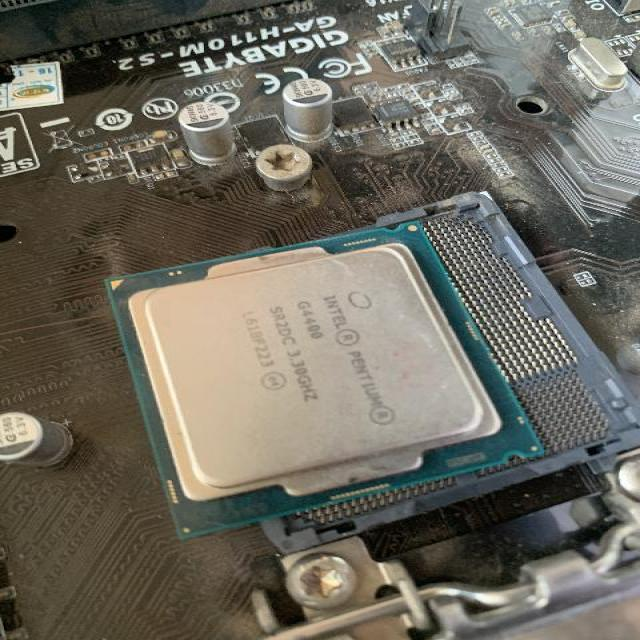CPU: (103, 222, 541, 539)
Mainboard: (0, 0, 640, 640)
